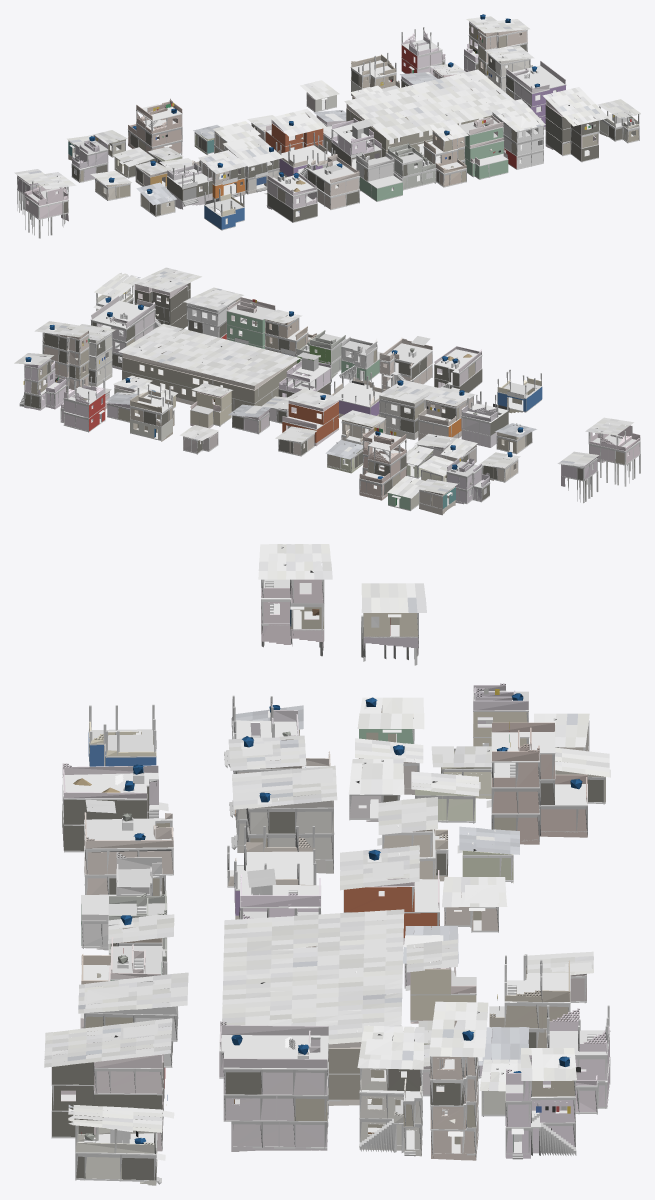
3 views of the same model, one above another, from view 1: azimuth 30°, elevation 25°; view 2: azimuth 150°, elevation 25°; view 3: azimuth 270°, elevation 25° (orthographic). The views are drawn at different scales.
Parts seen in each view (by area): view 1: T_26_22; view 2: T_26_22; view 3: T_26_22.
Boxes of the visible parts, box(x1,y1,x2,y2) form: T_26_22: box(14, 14, 640, 238); T_26_22: box(14, 267, 640, 515); T_26_22: box(44, 544, 610, 1185).
Size of the model in its own units: 128 by 13.89 by 56.2.
